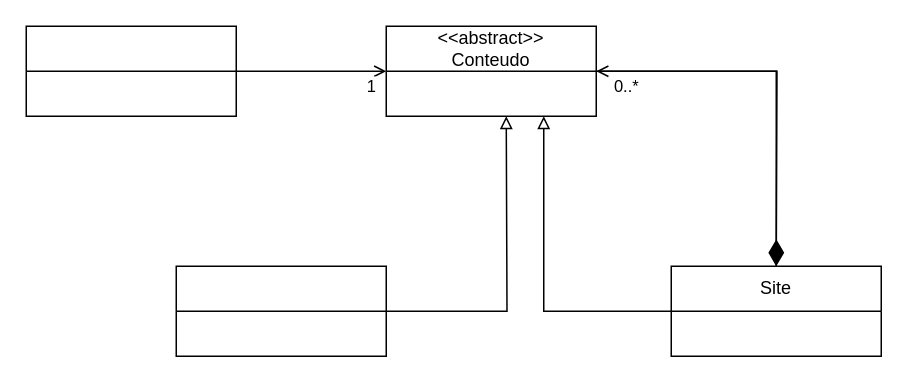
Image size: 908x383. Some labels were removed from this diagram. Here are the shapes that lost their labels. From the top down, the centre of each, then its label:
At point 130,70: "Buscador".
At point 280,310: "Pagina".
